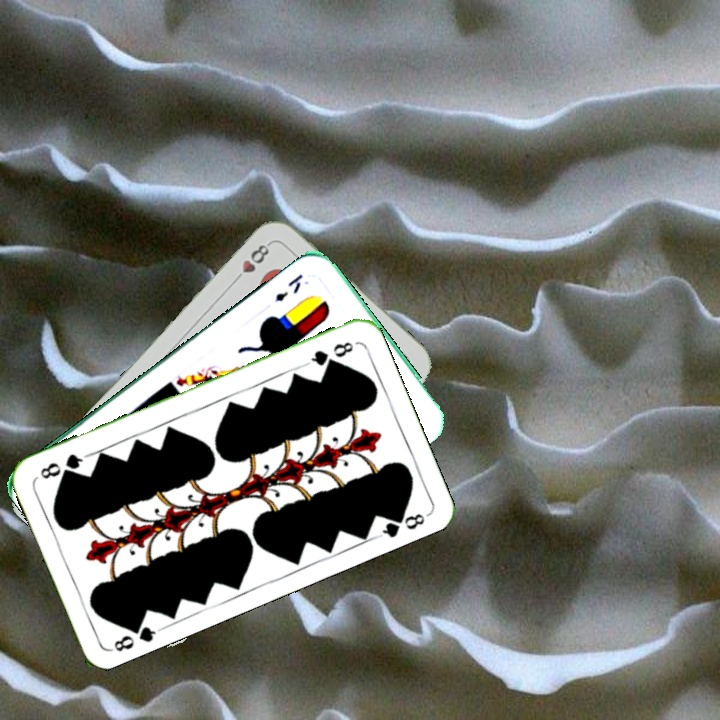EK: (271, 269, 305, 305)
G8: (107, 616, 164, 655), (302, 337, 357, 369)
H8: (229, 238, 274, 286)
